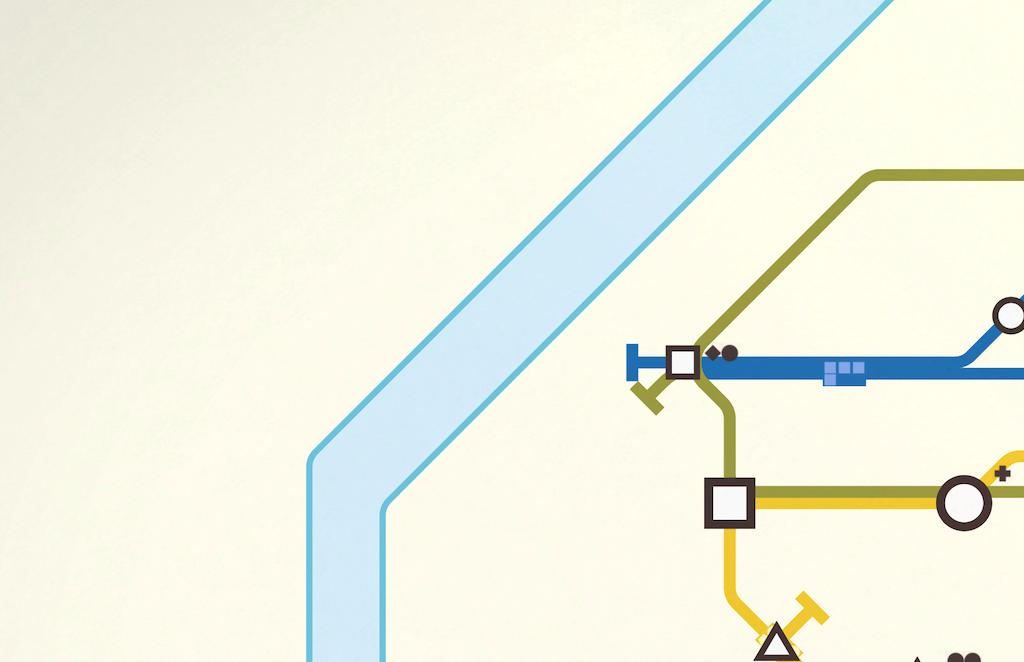connected_station: (693, 465, 774, 541), (930, 467, 1003, 543), (747, 614, 812, 662), (660, 340, 710, 389), (981, 294, 1024, 343), (872, 653, 955, 662)
line_endpoint: (780, 583, 848, 640), (615, 377, 670, 423), (610, 338, 655, 383)
train: (810, 354, 886, 397)
